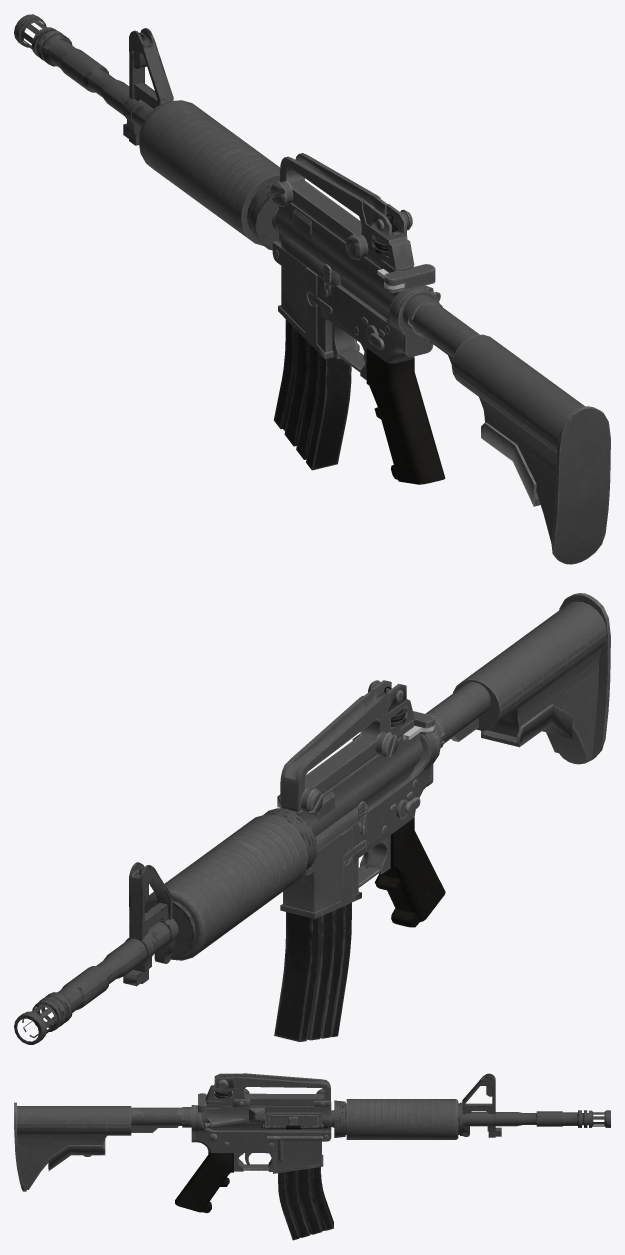
3 renders of one model, top to bottom at view 1: azimuth 30°, elevation 25°; view 2: azimuth 150°, elevation 25°; view 3: azimuth 270°, elevation 25°, orthographic. The views are drawn at different scales.
Size of the model in its own units: 0.059 by 0.2515 by 0.84.
Materials: 2 (2 with a texture image).
